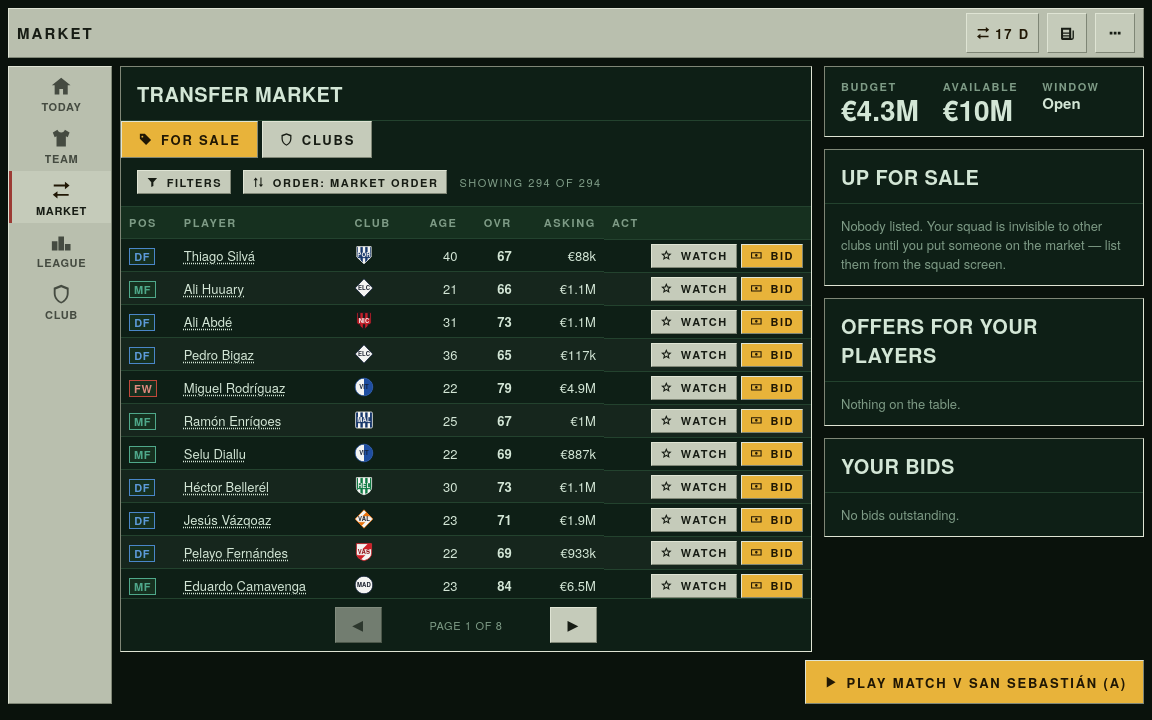
Test: the phone shell › filters the market from a sheet, and says how many filters are on
Click the button "Filters".
click(184, 182)  # box [137,170,231,194]
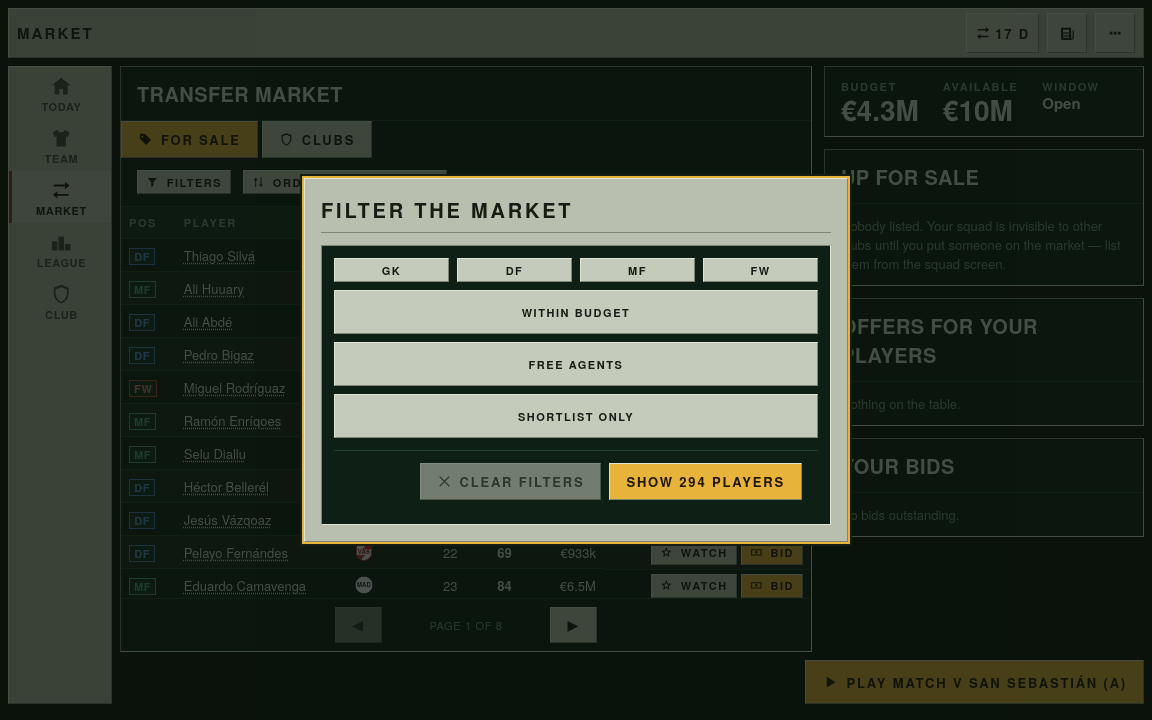
Click the button "GK".
click(392, 270)  # box [334,258,449,282]
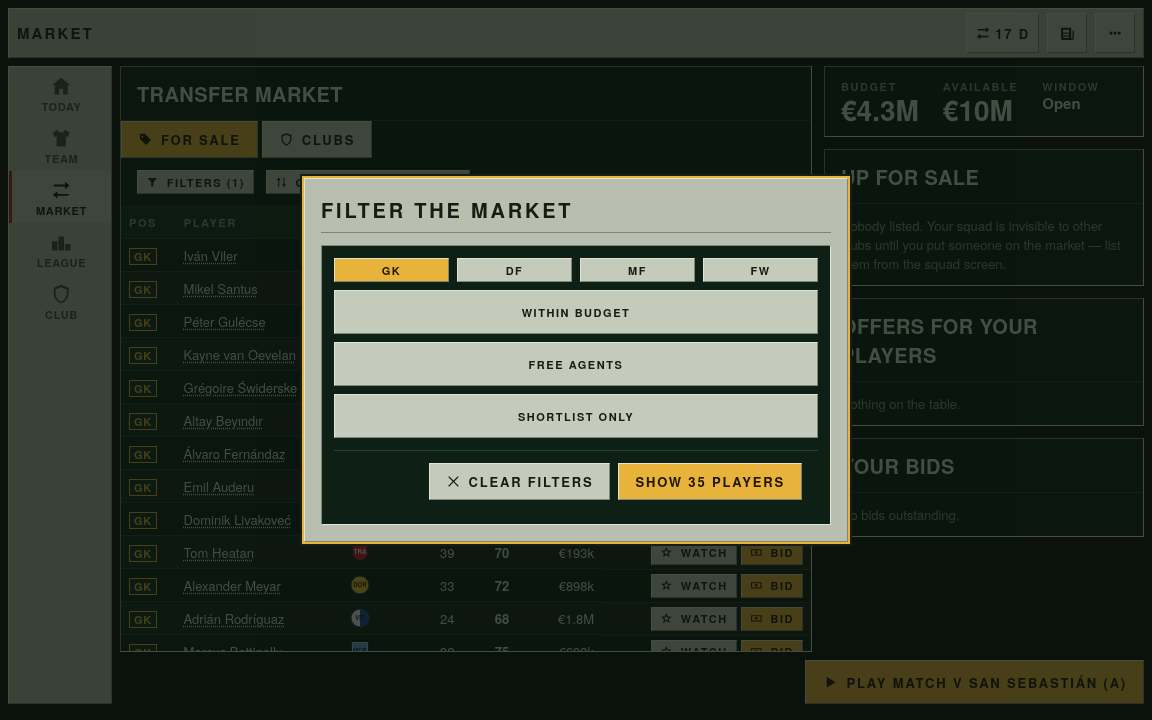
Click the button "Show 35 players".
click(710, 482)  # box [618,463,802,500]
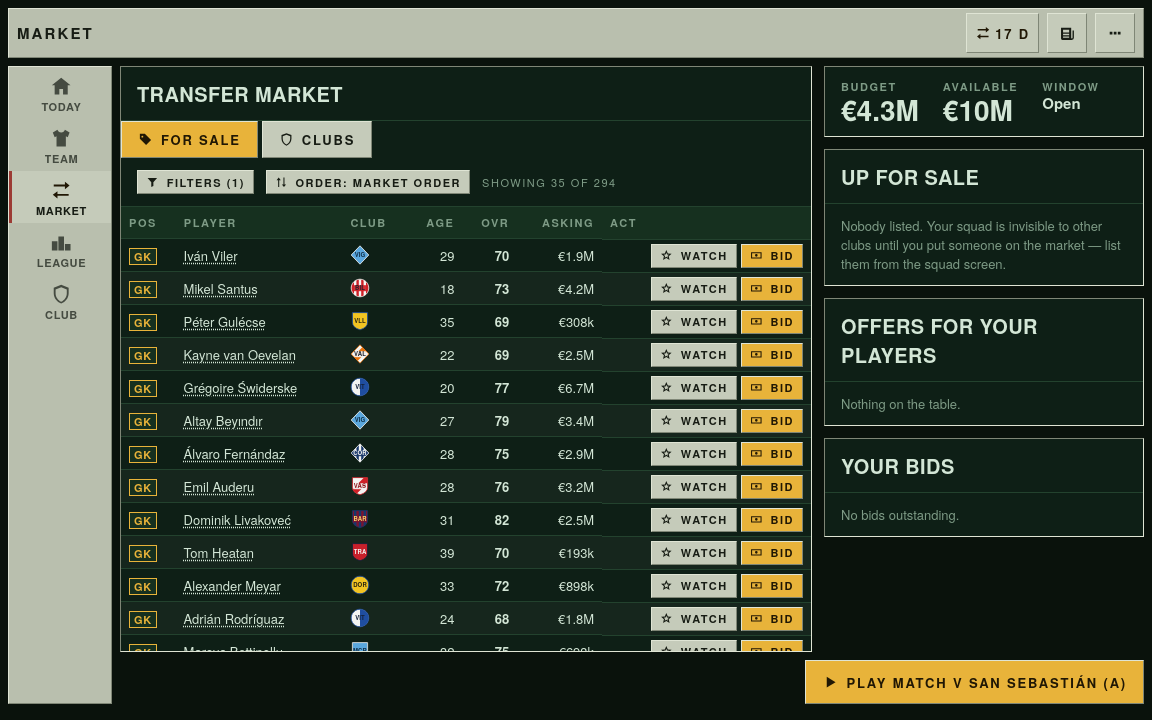
Now the dialog is gone
